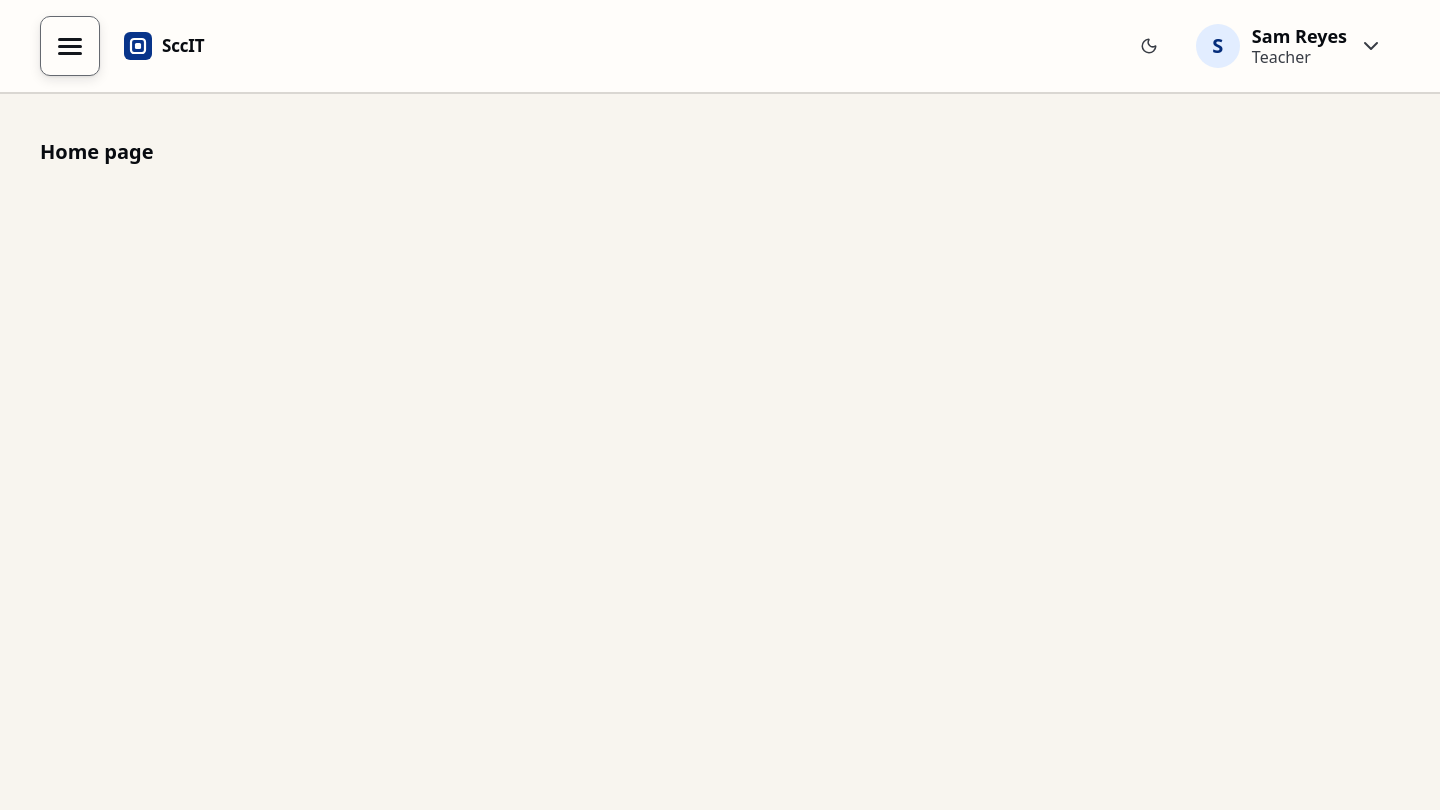
Test: the navigation inside it › offers a teacher exactly their own links
Click the button named "open navigation menu": [70, 46] box [40, 16, 100, 76]
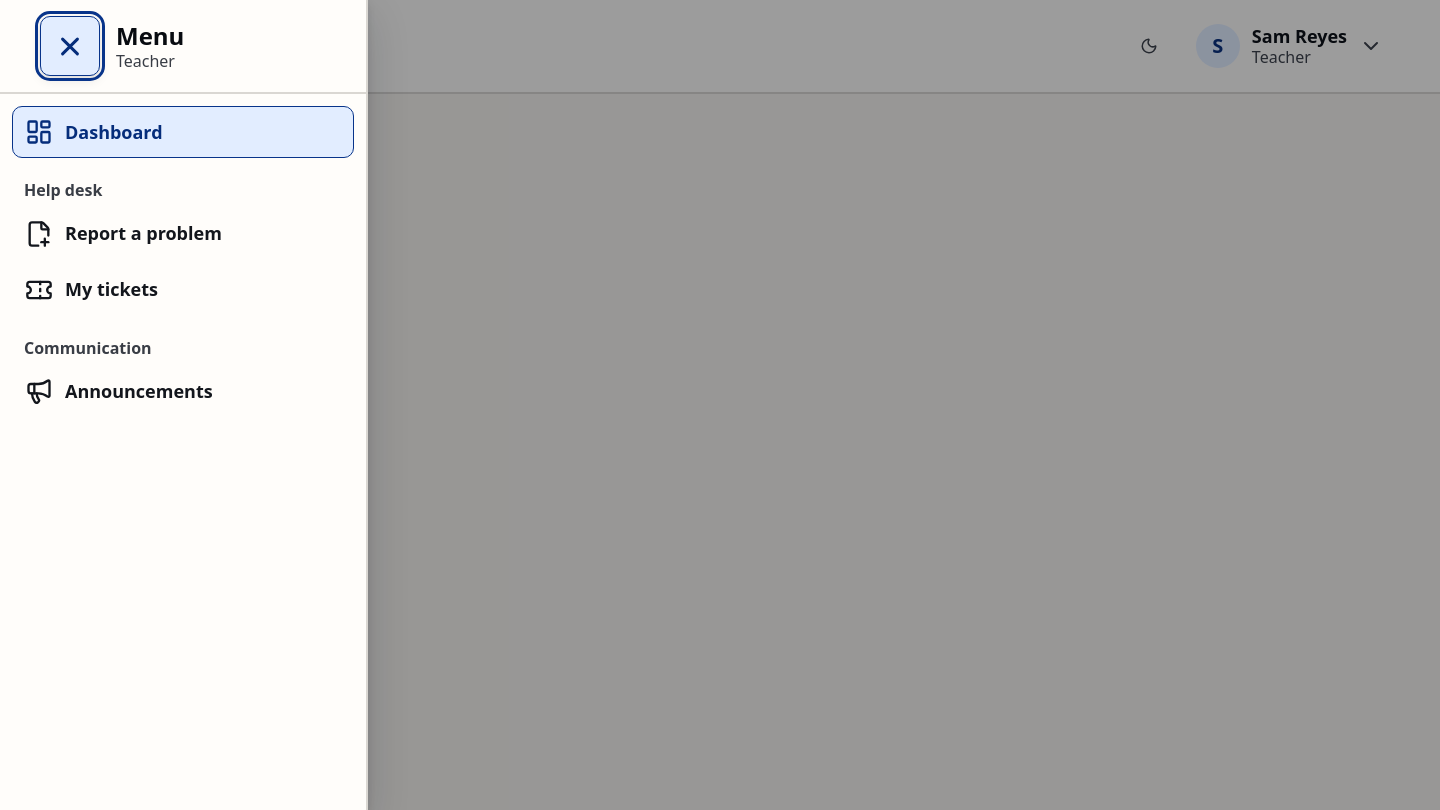
Expected: the links read "Dashboard", "Report a problem", "My tickets", "Announcements", in this order, [12, 106, 354, 158]; [25, 220, 222, 248]; [25, 276, 158, 304]; [25, 377, 213, 405]
